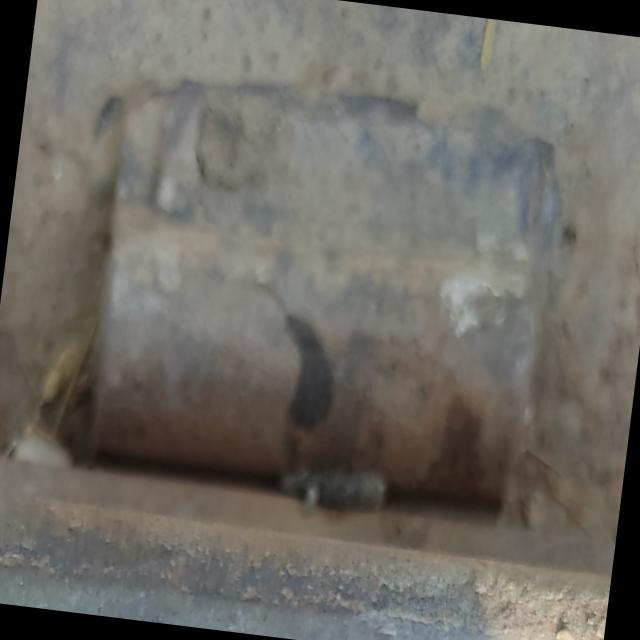track_bolt_missing: (76, 205, 552, 512)
